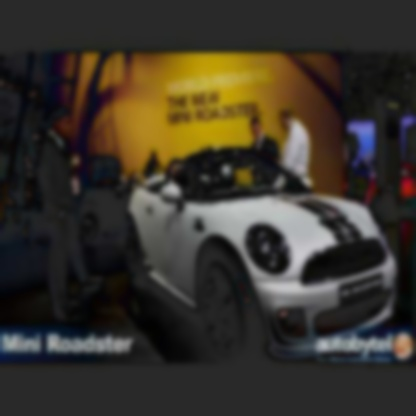Vehicle: (124, 147, 399, 365)
